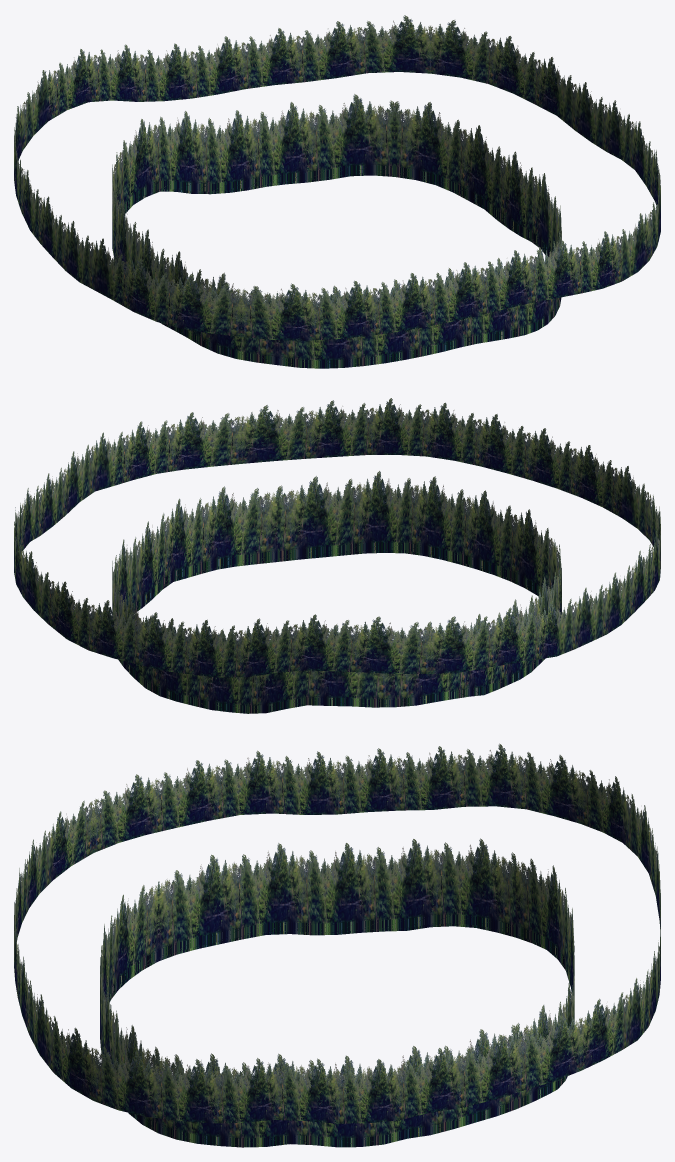
File: ForestGenericBG.glb
3 renders of one model, top to bottom at view 1: azimuth 30°, elevation 25°; view 2: azimuth 150°, elevation 25°; view 3: azimuth 270°, elevation 25°, orthographic. The views are drawn at different scales.
Parts seen in each view (by area): view 1: ForestBG; view 2: ForestBG; view 3: ForestBG.
Part boxes in pixels (<box>): ForestBG: <box>14,15,660,368</box>; ForestBG: <box>14,398,660,713</box>; ForestBG: <box>14,743,660,1147</box>.
Size of the model in its own units: 118 by 35.72 by 109.
1 material, 1 textured.
